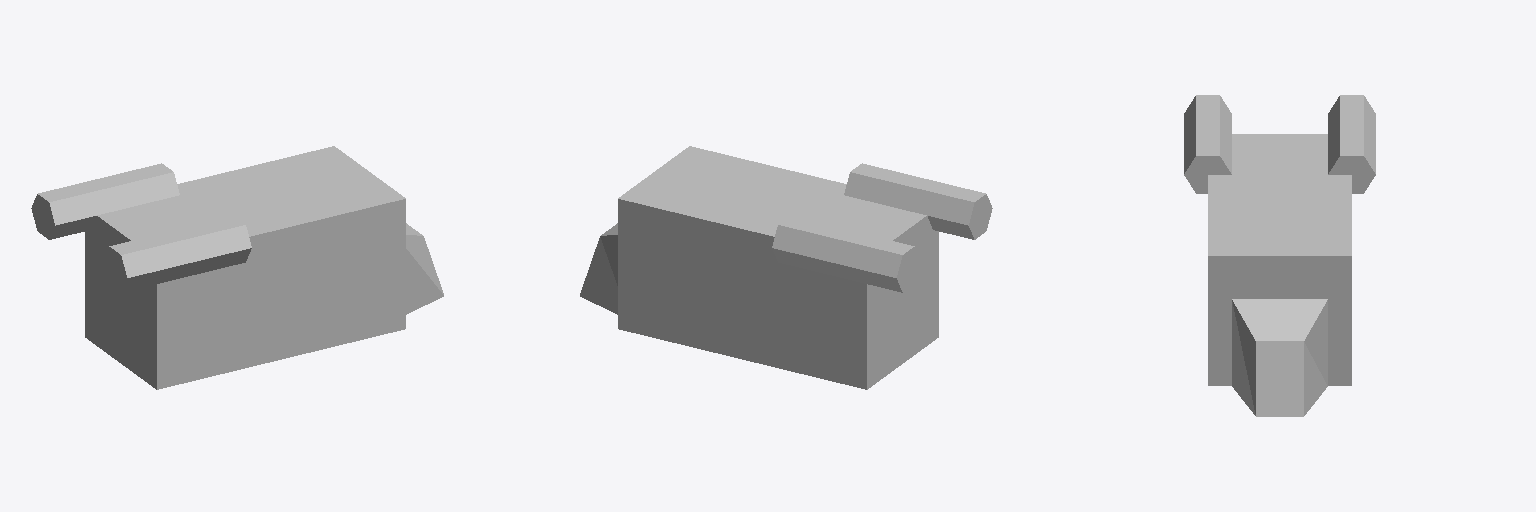
Rendered from cargo.obj.
The picture shows the model from 3 angles: view 1: azimuth 30°, elevation 25°; view 2: azimuth 150°, elevation 25°; view 3: azimuth 270°, elevation 25°; orthographic projection.
Parts seen in each view (by area): view 1: cube, cylinder; view 2: cube, cylinder; view 3: cube, cylinder.
Boxes of the visible parts, x1=… form: cube: x1=85, y1=146, x2=443, y2=389; cylinder: x1=31, y1=163, x2=251, y2=292; cube: x1=580, y1=146, x2=938, y2=389; cylinder: x1=772, y1=163, x2=992, y2=292; cube: x1=1208, y1=134, x2=1351, y2=416; cylinder: x1=1184, y1=95, x2=1375, y2=193.
Size of the model in its own units: 1.06 by 0.4291 by 0.5.